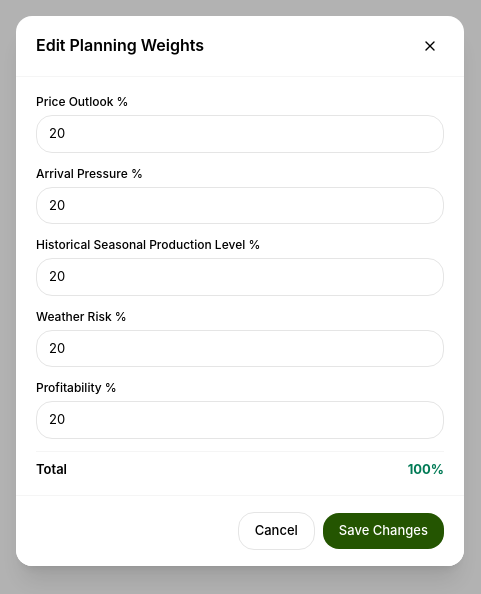
Test: EditWeightModal › does not claim success when the write is rejected
Click the button "Save Changes" at (383, 531), box [323, 513, 444, 549]
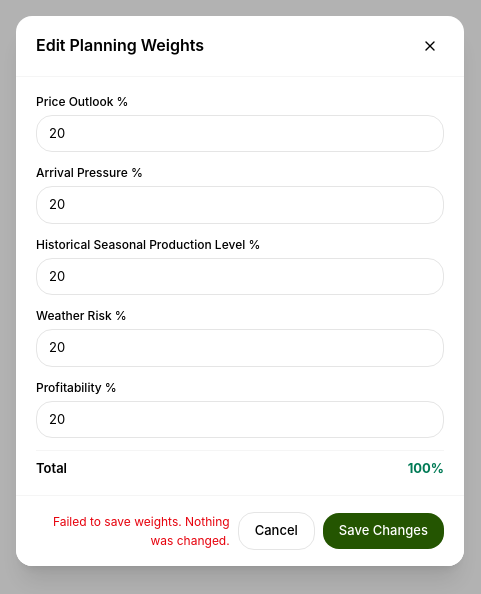
Expected: the text "Failed to save weights. Nothing was changed." is shown, [36, 512, 230, 550]
